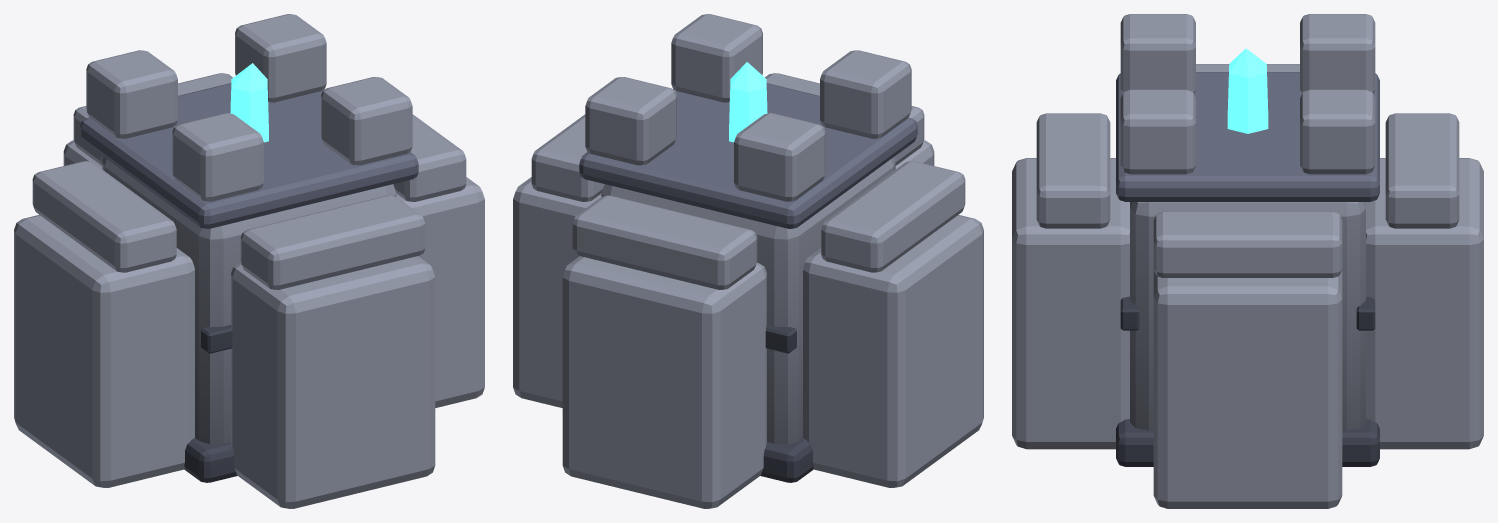
The model's file is wall.glb.
3 renders of one model, left to right at view 1: azimuth 30°, elevation 25°; view 2: azimuth 150°, elevation 25°; view 3: azimuth 270°, elevation 25°, orthographic. The views are drawn at different scales.
Parts seen in each view (by area): view 1: linkny_t0_stone, linknx_t0_stone, t0_stone, t0_stone_dark, linkpx_t0_stone, t3_crystal, linkpy_t0_stone, t1_iron; view 2: linkpy_t0_stone, linknx_t0_stone, t0_stone, t0_stone_dark, linkpx_t0_stone, t3_crystal, linkny_t0_stone, t1_iron; view 3: linkpx_t0_stone, t0_stone, linkpy_t0_stone, linkny_t0_stone, t0_stone_dark, t3_crystal, t1_iron, linknx_t0_stone.
Boxes of the visible parts, x1,y1,x2,y2 form: linkny_t0_stone: [231, 195, 435, 508]; linknx_t0_stone: [14, 161, 194, 487]; t0_stone: [86, 14, 412, 444]; t0_stone_dark: [80, 83, 418, 482]; linkpx_t0_stone: [393, 114, 484, 407]; t3_crystal: [230, 63, 268, 142]; linkpy_t0_stone: [63, 73, 232, 168]; t1_iron: [201, 325, 232, 353]; linkpy_t0_stone: [562, 195, 766, 508]; linknx_t0_stone: [803, 161, 983, 487]; t0_stone: [585, 14, 911, 444]; t0_stone_dark: [579, 83, 917, 482]; linkpx_t0_stone: [513, 114, 604, 407]; t3_crystal: [729, 62, 767, 142]; linkny_t0_stone: [765, 73, 934, 168]; t1_iron: [765, 325, 796, 353]; linkpx_t0_stone: [1153, 211, 1342, 508]; t0_stone: [1120, 14, 1375, 430]; linkpy_t0_stone: [1366, 113, 1483, 449]; linkny_t0_stone: [1012, 113, 1129, 449]; t0_stone_dark: [1116, 72, 1379, 466]; t3_crystal: [1227, 48, 1268, 133]; t1_iron: [1120, 296, 1375, 330]; linknx_t0_stone: [1196, 64, 1299, 71].
Bounding box in the file's own units: 1 × 0.86 × 1.
